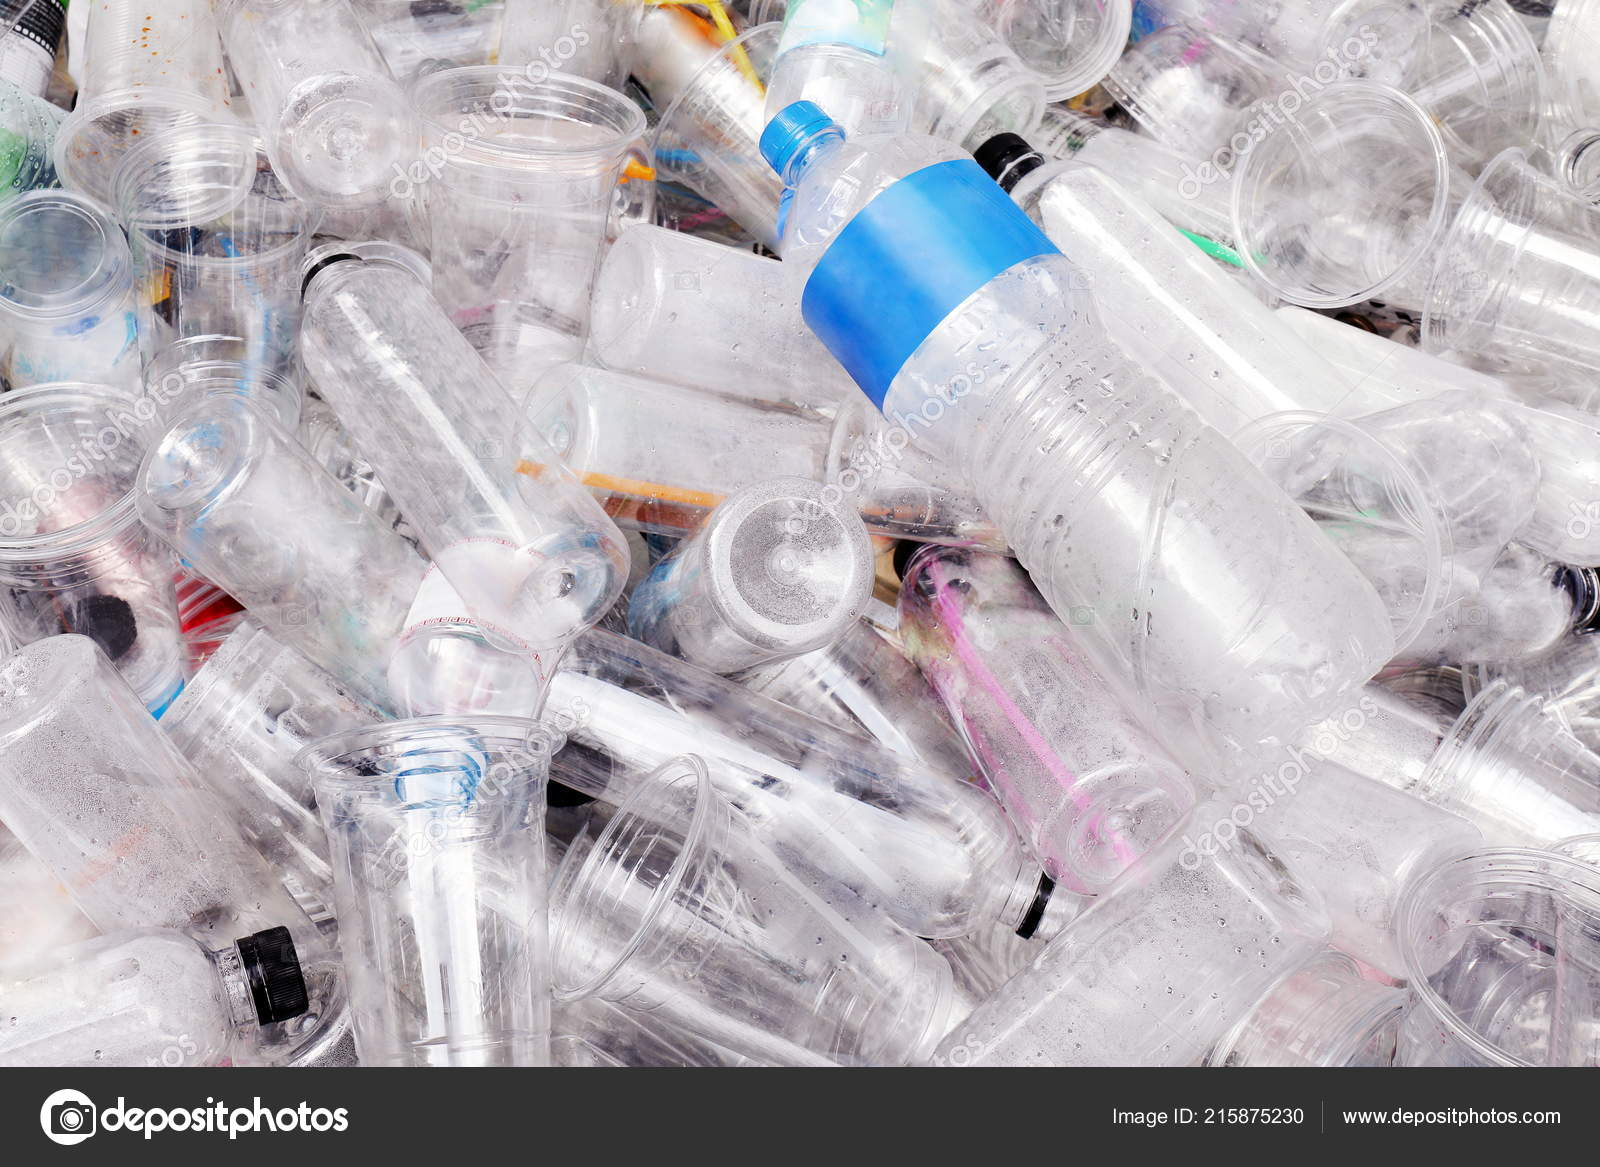plastic_bottle: (693, 53, 1538, 958), (205, 138, 877, 865), (817, 442, 1484, 1004), (1, 730, 914, 1068), (4, 563, 682, 1000), (517, 373, 1130, 789), (106, 1, 843, 333), (1164, 554, 1600, 1027)
